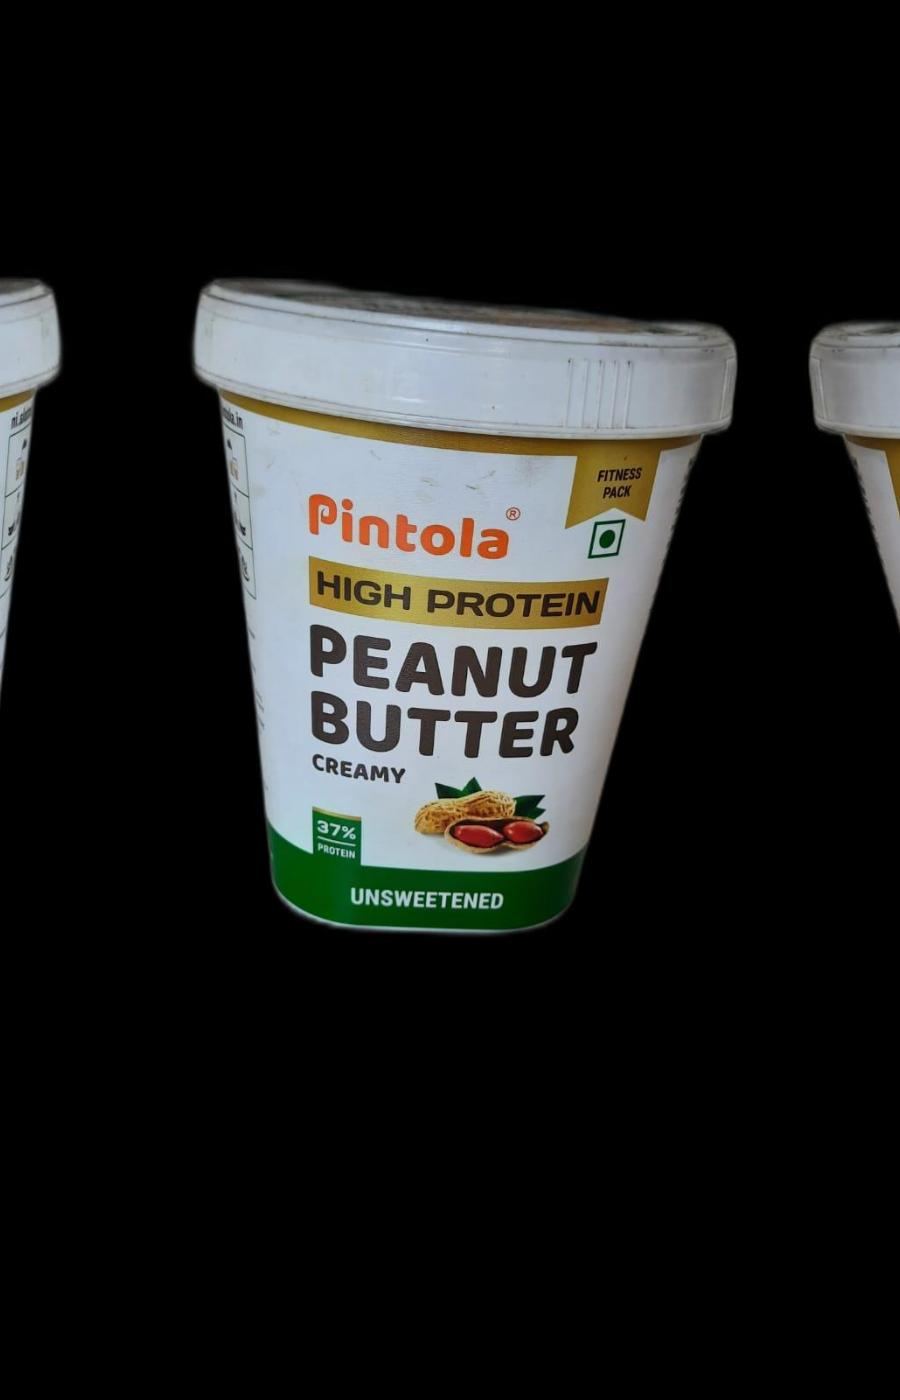Pintola High Protein Peanut Butter-510 gm-: (185, 260, 735, 940)
